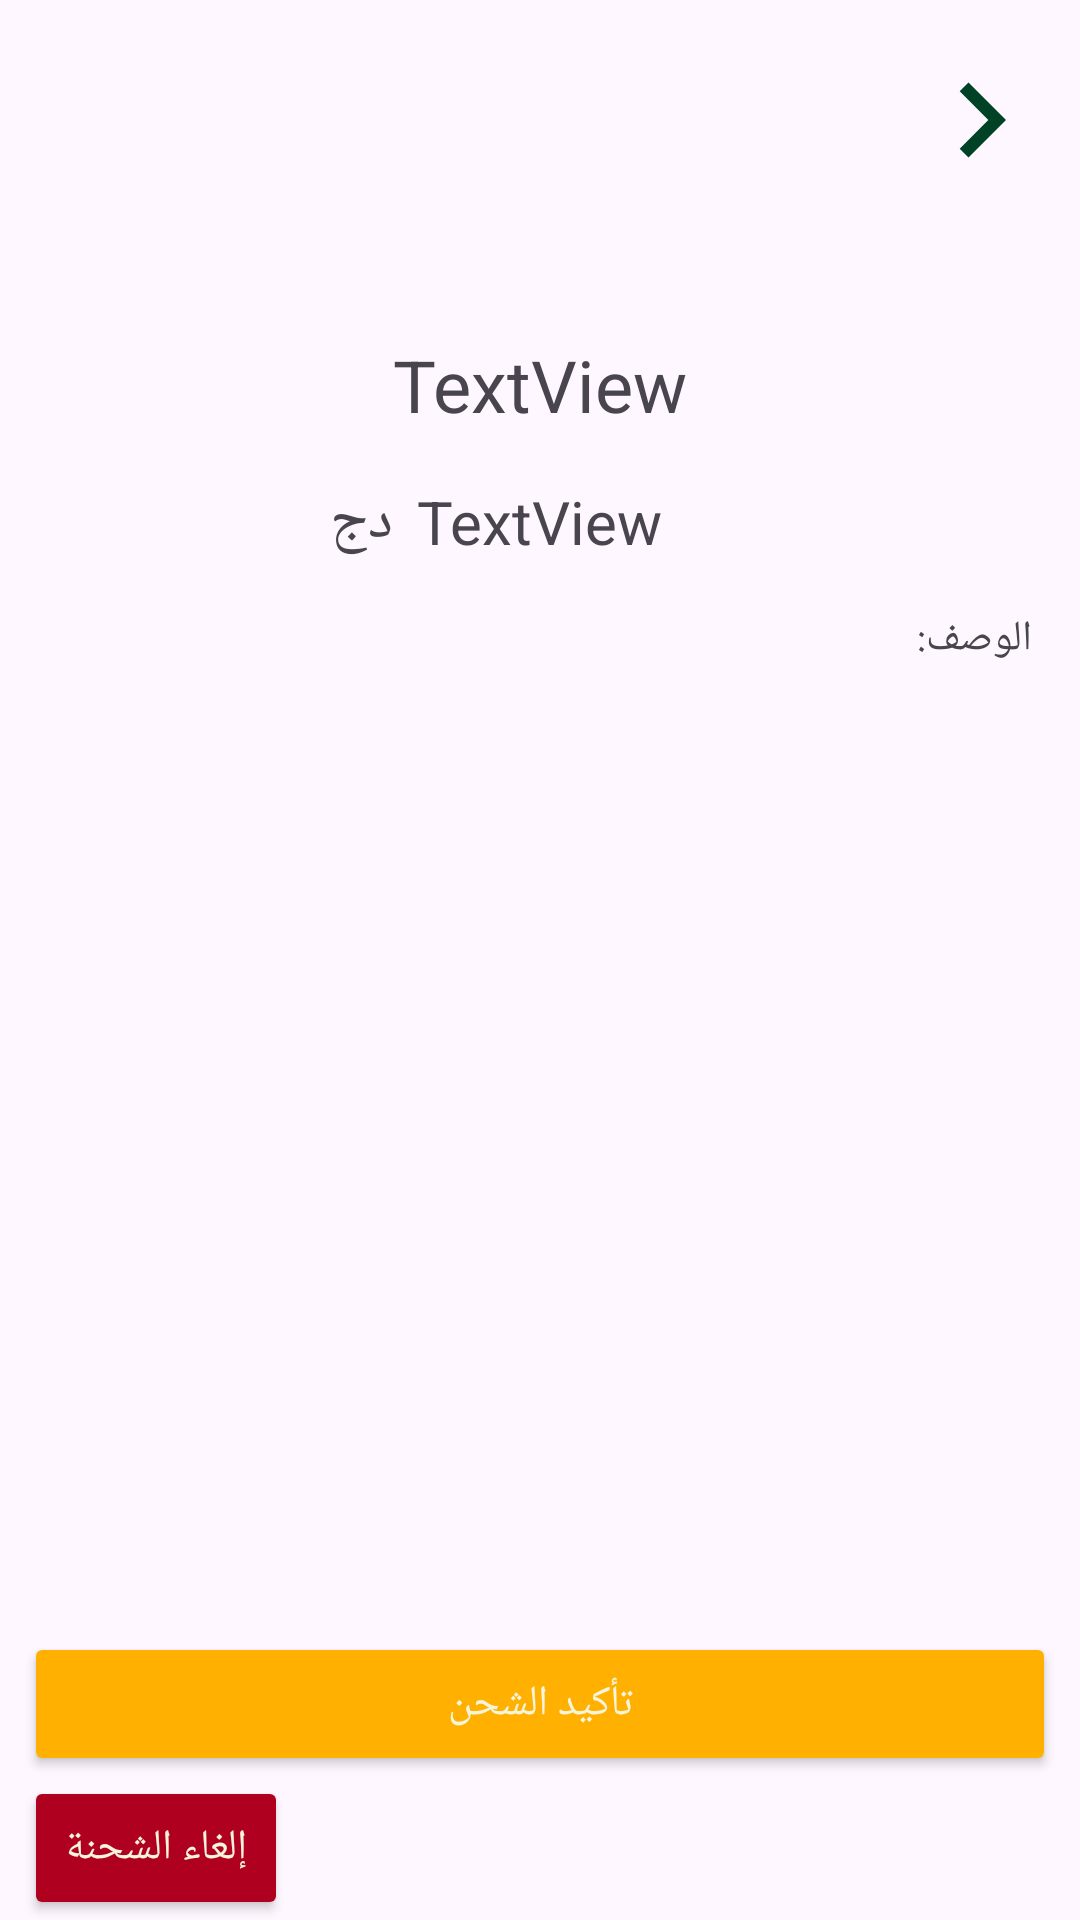

Icon click points for this 1080px x 1920px phone screenshot, format [x,y]:
chevron right: [983,120]
